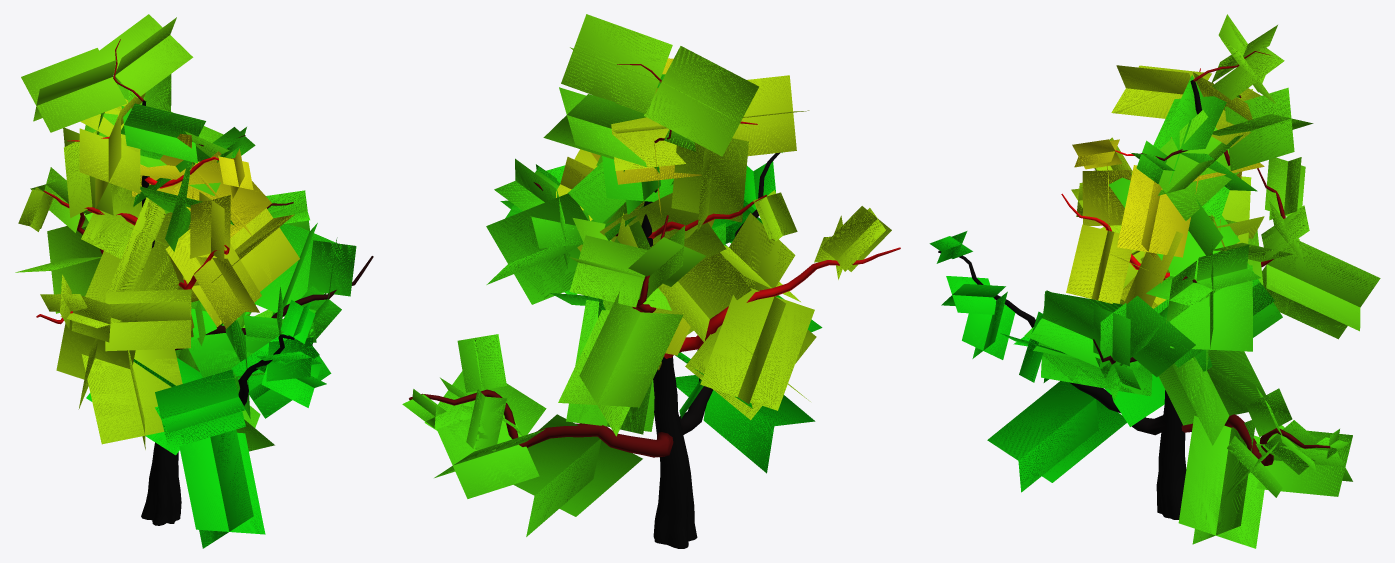
Rendered from Type_1_Tree_3.fbx.
The picture shows the model from 3 angles, left to right: view 1: azimuth 30°, elevation 25°; view 2: azimuth 150°, elevation 25°; view 3: azimuth 270°, elevation 25°; orthographic projection. The views are drawn at different scales.
Visible parts, largest first — view 1: Leaf, Trunk; view 2: Leaf, Trunk; view 3: Leaf, Trunk.
Boxes of the visible parts, bbox=[...] form: Leaf: bbox=[15, 14, 356, 548]; Trunk: bbox=[36, 39, 373, 525]; Leaf: bbox=[402, 14, 891, 536]; Trunk: bbox=[409, 64, 900, 548]; Leaf: bbox=[929, 14, 1380, 548]; Trunk: bbox=[938, 51, 1330, 519].
Size of the model in its own units: 2552 by 3429 by 2912.
